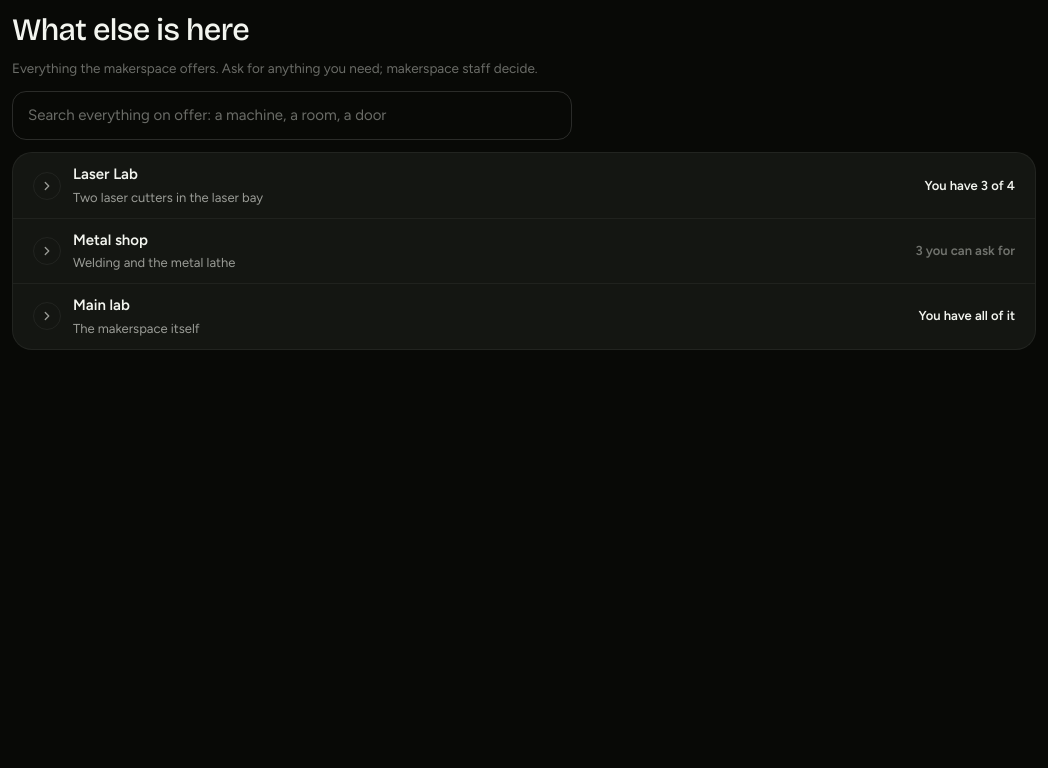
Scenario: MemberCatalog folds › counts each room from what you hold, folded until opened
The image size is (1048, 768).
Expected: the button "Metal shop" shows "3 you can ask for", [13, 219, 1035, 283]
Expected: the button "Main lab" shows "You have all of it", [13, 284, 1035, 349]
Click the button "Laser Lab" at (105, 174), box [13, 154, 1035, 218]
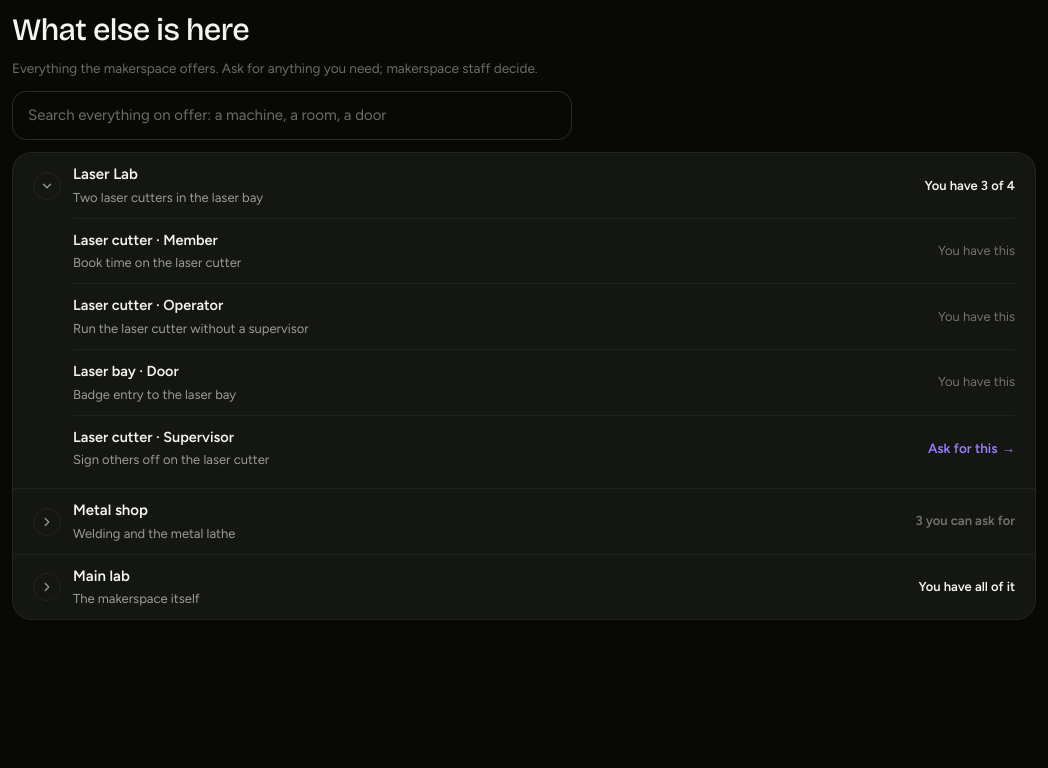
Now the button "Laser Lab" is expanded, box [13, 154, 1035, 218]
Now the text "You have this" is shown 3 times, box [938, 241, 1015, 261]; [938, 307, 1015, 327]; [938, 372, 1015, 392]
